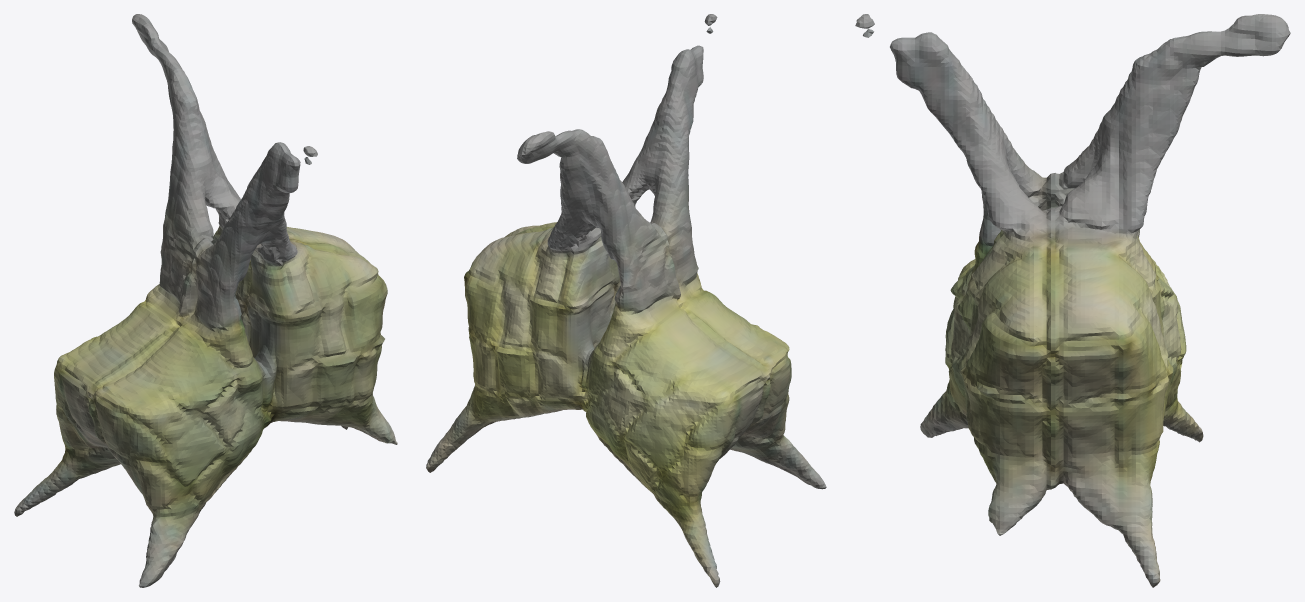
File: bangkabelitung.glb
The picture shows the model from 3 angles, left to right: view 1: azimuth 30°, elevation 25°; view 2: azimuth 150°, elevation 25°; view 3: azimuth 270°, elevation 25°; orthographic projection. The views are drawn at different scales.
Visible parts, largest first — view 1: world; view 2: world; view 3: world.
Boxes of the visible parts, left/top/right/bottom form: world: left=14, top=14, right=397, bottom=587; world: left=426, top=14, right=826, bottom=587; world: left=855, top=14, right=1290, bottom=587.
Size of the model in its own units: 0.6813 by 0.9123 by 0.6995.
